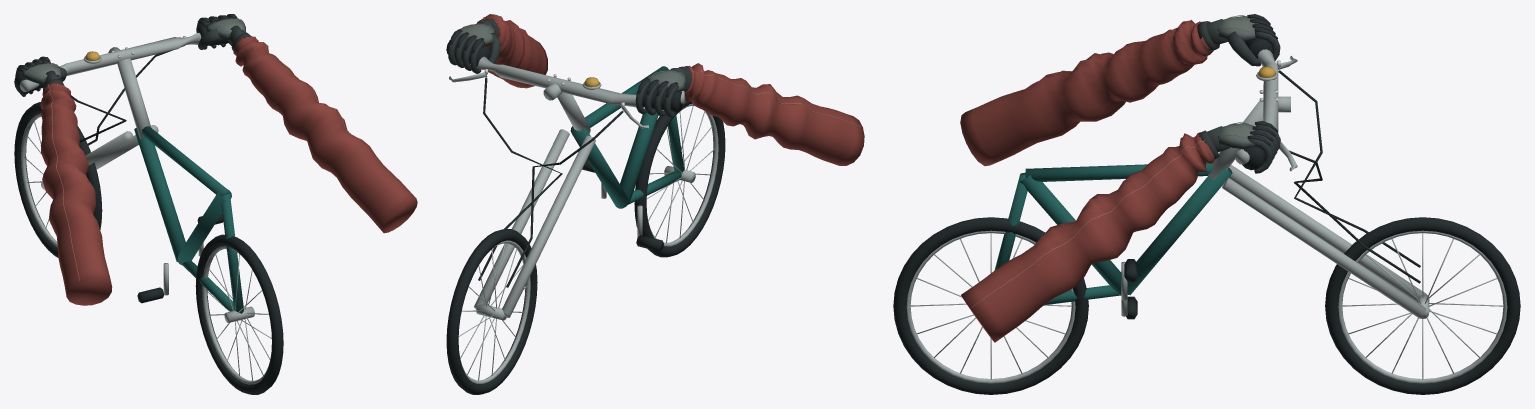
File: bicycle-rider.glb
The picture shows the model from 3 angles, left to right: view 1: azimuth 30°, elevation 25°; view 2: azimuth 150°, elevation 25°; view 3: azimuth 270°, elevation 25°; orthographic projection. The views are drawn at different scales.
Parts seen in each view (by area): view 1: steering-pivot-cloth, bicycle-metal, steering-pivot-metal, rear-wheel-tire, steering-pivot-glove, rear-wheel-metal, front-wheel-tire, steering-pivot-soft, front-wheel-metal, pedal-pivot-soft; view 2: steering-pivot-cloth, steering-pivot-metal, bicycle-metal, front-wheel-tire, steering-pivot-glove, rear-wheel-tire, front-wheel-metal, rear-wheel-metal, steering-pivot-soft, pedal-pivot-soft; view 3: steering-pivot-cloth, steering-pivot-metal, bicycle-metal, front-wheel-tire, rear-wheel-tire, front-wheel-metal, steering-pivot-glove, rear-wheel-metal, steering-pivot-soft.
Part boxes in pixels (left/top/right/bottom): steering-pivot-cloth: left=40, top=32, right=417, bottom=305; bicycle-metal: left=134, top=126, right=243, bottom=313; steering-pivot-metal: left=20, top=33, right=201, bottom=189; rear-wheel-tire: left=195, top=234, right=283, bottom=394; steering-pivot-glove: left=15, top=14, right=245, bottom=96; rear-wheel-metal: left=202, top=246, right=271, bottom=384; front-wheel-tire: left=14, top=102, right=102, bottom=257; steering-pivot-soft: left=14, top=26, right=229, bottom=145; front-wheel-metal: left=21, top=113, right=57, bottom=247; pedal-pivot-soft: left=137, top=213, right=223, bottom=303; steering-pivot-cloth: left=476, top=14, right=864, bottom=165; steering-pivot-metal: left=449, top=56, right=685, bottom=317; bicycle-metal: left=570, top=66, right=683, bottom=208; front-wheel-tire: left=446, top=229, right=537, bottom=394; steering-pivot-glove: left=448, top=21, right=686, bottom=117; rear-wheel-tire: left=634, top=101, right=725, bottom=257; front-wheel-metal: left=458, top=240, right=530, bottom=383; rear-wheel-metal: left=646, top=103, right=718, bottom=246; steering-pivot-soft: left=446, top=40, right=682, bottom=287; pedal-pivot-soft: left=582, top=159, right=663, bottom=251; steering-pivot-cloth: left=960, top=19, right=1219, bottom=342; steering-pivot-metal: left=1208, top=49, right=1426, bottom=318; bicycle-metal: left=994, top=162, right=1232, bottom=305; front-wheel-tire: left=1325, top=217, right=1520, bottom=394; rear-wheel-tire: left=893, top=217, right=1088, bottom=394; front-wheel-metal: left=1338, top=230, right=1507, bottom=383; steering-pivot-glove: left=1206, top=14, right=1280, bottom=173; rear-wheel-metal: left=906, top=230, right=1075, bottom=383; steering-pivot-soft: left=1242, top=34, right=1420, bottom=283.
Bounding box in the file's own units: 1.8 × 1.33 × 2.35.
